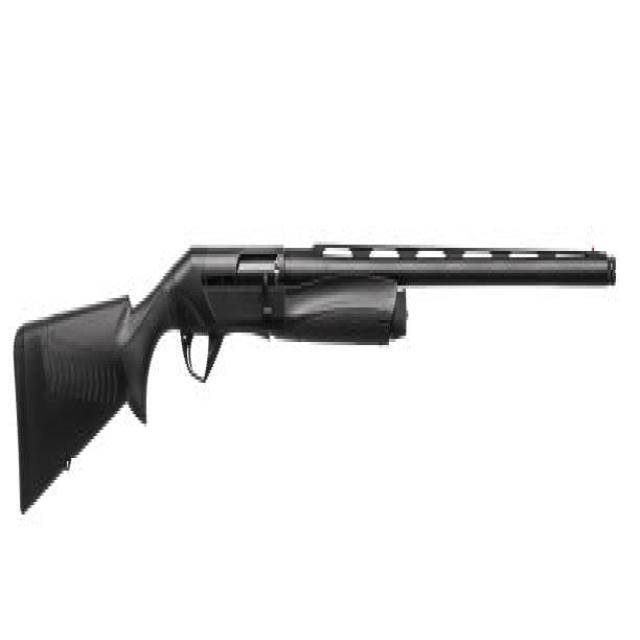rifle: (11, 235, 621, 533)
